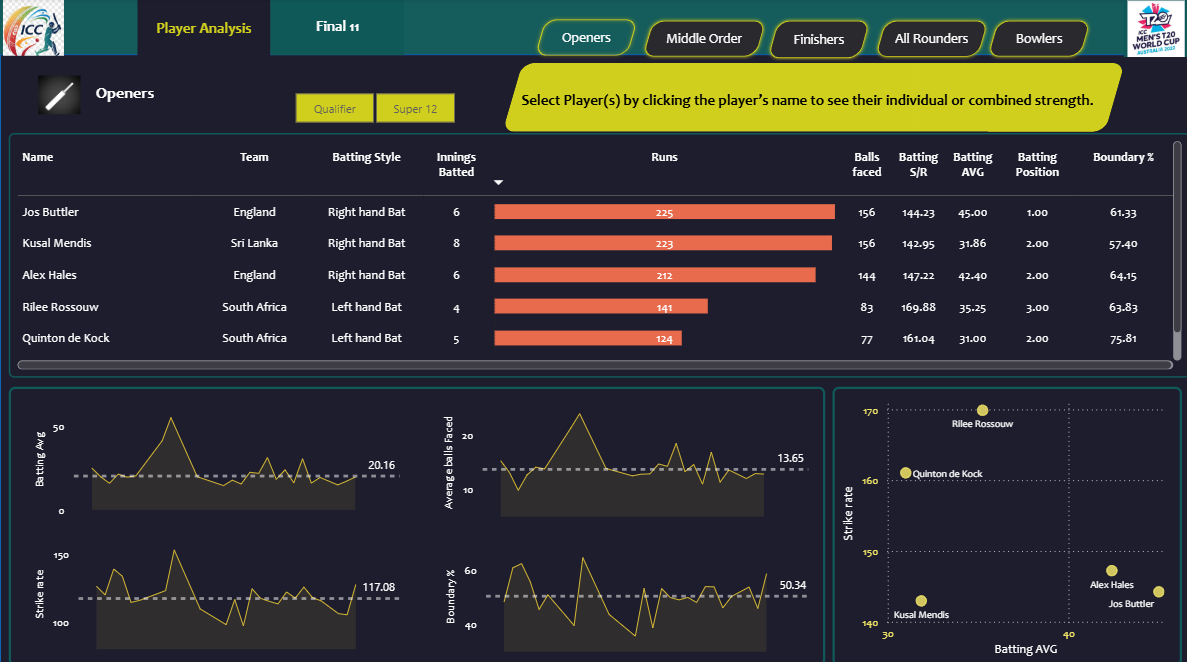

Layout of this report page (visuals, bound fields, positions):
{"tool":"powerbi","page":{"name":"Openers","canvas":[1280,720],"ordinal":0},"visuals":[{"type":"shape","box":[832.9,436.4,406.2,270.3],"z":0},{"type":"shape","box":[9.6,123.5,1232,256],"z":1000},{"type":"shape","box":[0,100.2,1280.3,279.9],"z":2000},{"type":"shape","box":[0,60,1280,660],"z":3000},{"type":"tableEx","fields":{"Values":["dim_players.name","dim_players.team","dim_players.battingStyle","Key_Measures.Total Innings Batted","Key_Measures.Total Runs","Key_Measures.Total balls faced","Key_Measures.Strike rate","Key_Measures.Batting Avg","Key_Measures.Batting Position","Key_Measures.Boundary %"]},"box":[9.4,145.2,1270.9,263.6],"z":4000},{"type":"slicer","fields":{"Values":["dim_match_summary.stage"]},"box":[291.4,95.3,221.4,45.7],"z":5000},{"type":"shape","box":[82,72.6,104.9,59.2],"z":6000},{"type":"shape","box":[540,69.4,669.6,74],"z":7000},{"type":"cardVisual","fields":{"Data":["Key_Measures.Average balls Faced"]},"box":[954.4,68,146.8,79.6],"z":8000},{"type":"cardVisual","fields":{"Data":["Key_Measures.Batting Avg"]},"box":[751.3,66.7,123.5,79.6],"z":9000},{"type":"cardVisual","fields":{"Data":["Key_Measures.Boundary %"]},"box":[1058.7,68,123.5,81],"z":10000},{"type":"cardVisual","fields":{"Data":["Key_Measures.Strike rate"]},"box":[859.3,65.9,127.8,80.7],"z":11000},{"type":"shape","box":[540,90,209.9,35.7],"z":12000},{"type":"scatterChart","fields":{"Y":["Key_Measures.Strike rate"],"X":["Key_Measures.Batting Avg"],"Category":["dim_players.name"]},"box":[895.7,418.6,375.7,301.4],"z":13000},{"type":"shape","box":[10,418.6,878.6,301.4],"z":14000},{"type":"areaChart","fields":{"Y":["Key_Measures.Batting Avg"],"Category":["dim_match_summary.matchDate.Variation.Date Hierarchy.Day"]},"box":[32.9,428.6,402.9,135.7],"z":15000},{"type":"areaChart","fields":{"Y":["Key_Measures.Average balls Faced"],"Category":["dim_match_summary.matchDate.Variation.Date Hierarchy.Day"]},"box":[471.4,427.1,402.9,135.7],"z":16000},{"type":"areaChart","fields":{"Y":["Key_Measures.Strike rate"],"Category":["dim_match_summary.matchDate.Variation.Date Hierarchy.Day"]},"box":[32.9,570,402.9,135.7],"z":17000},{"type":"areaChart","fields":{"Y":["Key_Measures.Boundary %"],"Category":["dim_match_summary.matchDate.Variation.Date Hierarchy.Day"]},"box":[474.3,572.9,402.9,135.7],"z":18000},{"type":"image","box":[1209,2.7,69.9,60.5],"z":19000},{"type":"image","box":[32.3,83.4,63.2,41.7],"z":20000},{"type":"image","box":[0,1.3,72.6,60.5],"z":21000},{"type":"actionButton","box":[148.6,1.4,142.9,61.4],"z":22000},{"type":"actionButton","box":[291.4,0,142.9,61.4],"z":23000},{"type":"actionButton","box":[571.9,18.5,118.6,47.1],"z":24000},{"type":"actionButton","box":[687.6,19.9,141,47],"z":25000},{"type":"actionButton","box":[821.9,19.9,118.6,48.6],"z":26000},{"type":"actionButton","box":[937.6,19.9,130,47.1],"z":27000},{"type":"actionButton","box":[1059,19.9,119,47],"z":28000},{"type":"shape","box":[555.4,86.1,626.7,47.1],"z":29000}]}

Visuals, with their boxes in screenshot pixels (x1, y1, x2, y2), scaled from the page's 1280x720 canvas onto the 1187x662 screenshot:
shape: Rect(772, 401, 1149, 650)
shape: Rect(9, 114, 1151, 349)
shape: Rect(0, 92, 1186, 349)
shape: Rect(0, 55, 1186, 661)
tableEx - dim_players.name x dim_players.team: Rect(9, 134, 1186, 376)
slicer - dim_match_summary.stage: Rect(270, 88, 476, 130)
shape: Rect(76, 67, 173, 121)
shape: Rect(501, 64, 1122, 132)
cardVisual - Key_Measures.Average balls Faced: Rect(885, 63, 1021, 136)
cardVisual - Key_Measures.Batting Avg: Rect(697, 61, 811, 135)
cardVisual - Key_Measures.Boundary %: Rect(982, 63, 1096, 137)
cardVisual - Key_Measures.Strike rate: Rect(797, 61, 915, 135)
shape: Rect(501, 83, 695, 116)
scatterChart - Key_Measures.Strike rate x Key_Measures.Batting Avg: Rect(831, 385, 1179, 661)
shape: Rect(9, 385, 824, 661)
areaChart - Key_Measures.Batting Avg x dim_match_summary.matchDate.Variation.Date Hierarchy.Day: Rect(31, 394, 404, 519)
areaChart - Key_Measures.Average balls Faced x dim_match_summary.matchDate.Variation.Date Hierarchy.Day: Rect(437, 393, 811, 517)
areaChart - Key_Measures.Strike rate x dim_match_summary.matchDate.Variation.Date Hierarchy.Day: Rect(31, 524, 404, 649)
areaChart - Key_Measures.Boundary % x dim_match_summary.matchDate.Variation.Date Hierarchy.Day: Rect(440, 527, 813, 652)
image: Rect(1121, 2, 1186, 58)
image: Rect(30, 77, 89, 115)
image: Rect(0, 1, 67, 57)
actionButton: Rect(138, 1, 270, 58)
actionButton: Rect(270, 0, 403, 56)
actionButton: Rect(530, 17, 640, 60)
actionButton: Rect(638, 18, 768, 62)
actionButton: Rect(762, 18, 872, 63)
actionButton: Rect(869, 18, 990, 62)
actionButton: Rect(982, 18, 1092, 62)
shape: Rect(515, 79, 1096, 122)
